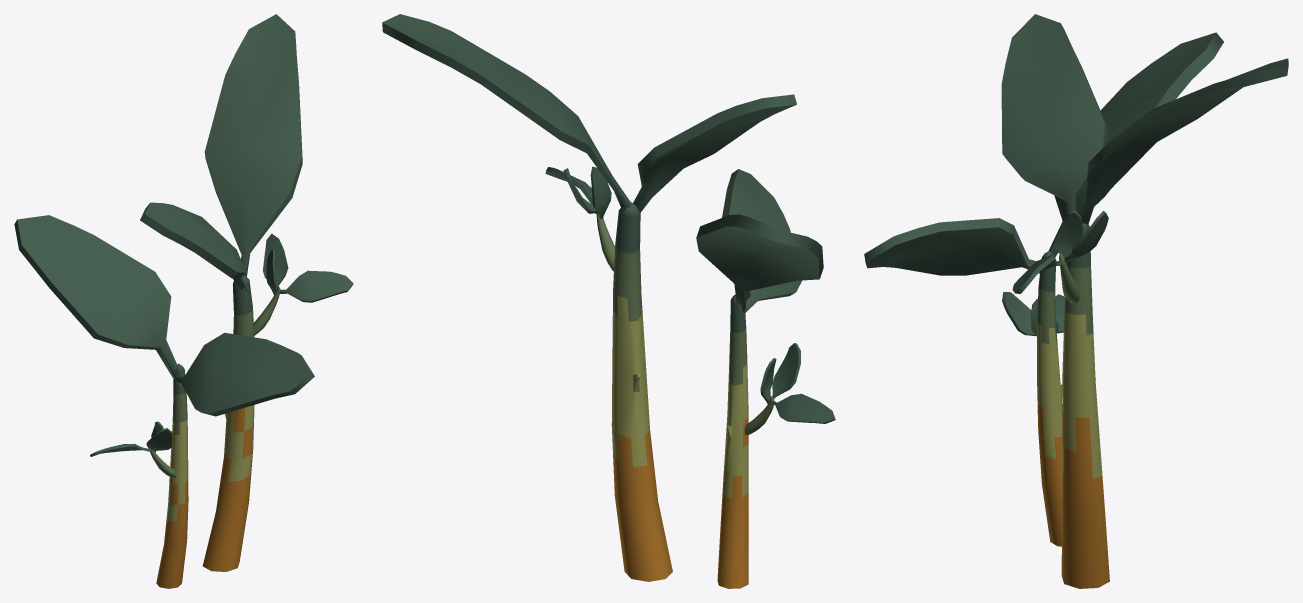
Rendered from PL_potatoStage1_01.fbx.
The picture shows the model from 3 angles, left to right: view 1: azimuth 30°, elevation 25°; view 2: azimuth 150°, elevation 25°; view 3: azimuth 270°, elevation 25°; orthographic projection. The views are drawn at different scales.
Parts seen in each view (by area): view 1: PL_potatoStage1_01; view 2: PL_potatoStage1_01; view 3: PL_potatoStage1_01.
Part boxes in pixels (x1=…): PL_potatoStage1_01: x1=14, y1=14, x2=353, y2=588; PL_potatoStage1_01: x1=382, y1=14, x2=835, y2=588; PL_potatoStage1_01: x1=864, y1=14, x2=1288, y2=588.
Bounding box in the file's own units: 37.29 × 54.96 × 35.35.
1 material, 1 textured.
